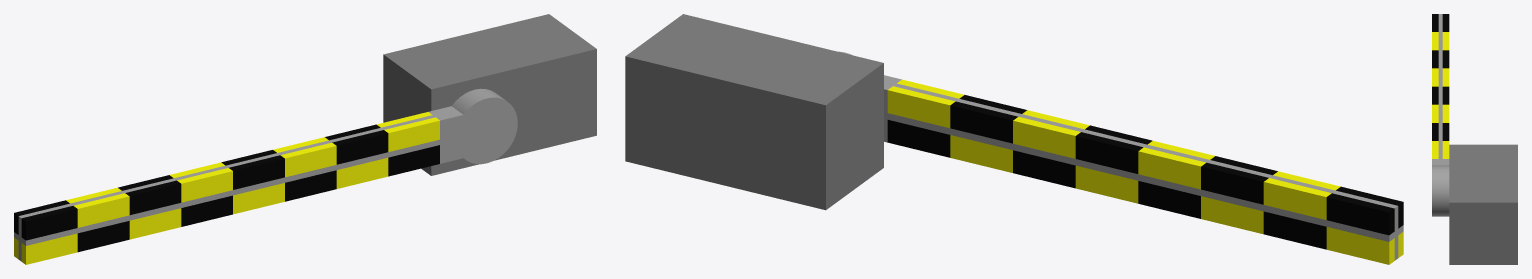
The model's file is StartBarrier.dae.
The picture shows the model from 3 angles, left to right: view 1: azimuth 30°, elevation 25°; view 2: azimuth 150°, elevation 25°; view 3: azimuth 270°, elevation 25°; orthographic projection. The views are drawn at different scales.
Visible parts, largest first — view 1: 66d6e7bb0387fd1398284fa1 (×4); view 2: 66d6e7bb0387fd1398284fa1 (×4); view 3: 66d6e7bb0387fd1398284fa1 (×4).
Part boxes in pixels (x1,y1,x2,y2): 66d6e7bb0387fd1398284fa1 (×4): (14,14,596,264); 66d6e7bb0387fd1398284fa1 (×4): (625,14,1403,264); 66d6e7bb0387fd1398284fa1 (×4): (1432,14,1517,264).
Size of the model in its own units: 0.563 by 0.1 by 0.08.
